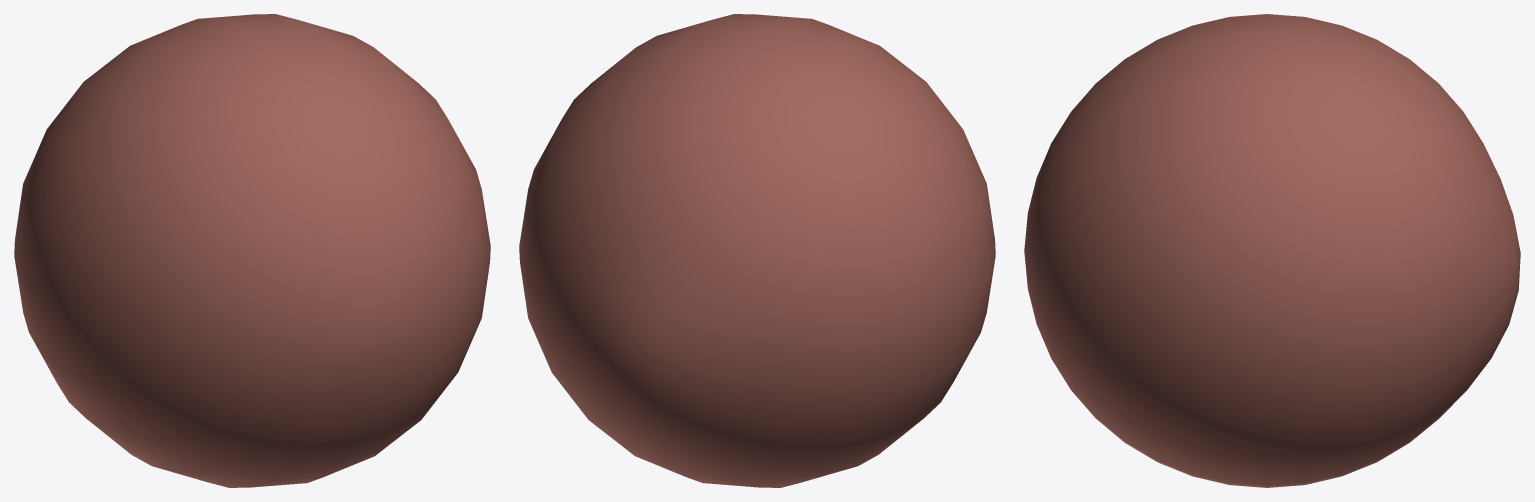
The model's file is mixamo_humanoid_joint_spine.fbx.
3 views of the same model, side by side, from view 1: azimuth 30°, elevation 25°; view 2: azimuth 150°, elevation 25°; view 3: azimuth 270°, elevation 25° (orthographic).
Parts seen in each view (by area): view 1: joint_Spine; view 2: joint_Spine; view 3: joint_Spine.
Part boxes in pixels (box(x1,y1,x2,y2)): joint_Spine: box(14, 14, 490, 487); joint_Spine: box(519, 14, 995, 487); joint_Spine: box(1024, 14, 1520, 487).
Bounding box in the file's own units: 21.74 × 21.74 × 22.6.
